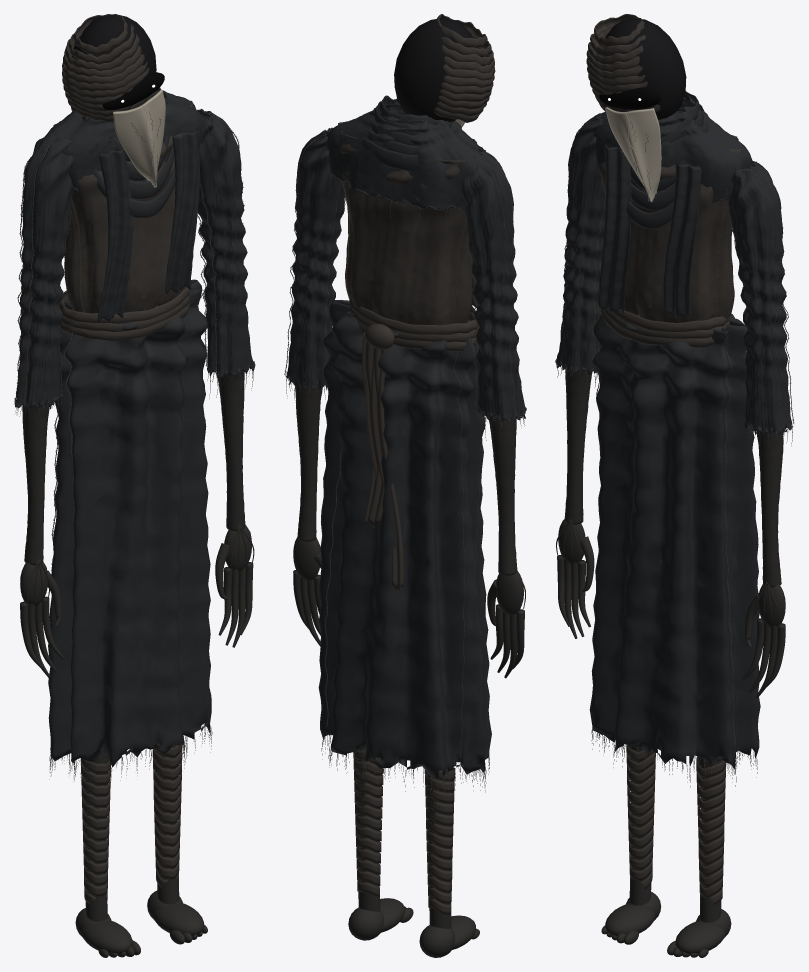
File: TheBlindOne_V4_RobloxPreview.glb
3 renders of one model, left to right at view 1: azimuth 30°, elevation 25°; view 2: azimuth 150°, elevation 25°; view 3: azimuth 330°, elevation 25°, orthographic.
Visible parts, largest first — view 1: Long continuous robe, Left sleeve, Right sleeve, V4_skin_01, Loose blouse gathered into sash, V4_cloth_01, V4_skin_02, V4_binding_06, Worn shoulder mantle, V4_binding_01, Curved elongated ivory faceplate, V4_binding_05 (+10 smaller); view 2: Long continuous robe, Loose blouse gathered into sash, Left sleeve, Right sleeve, V4_skin_01, Worn shoulder mantle, V4_skin_02, V4_binding_05, V4_binding_06, V4_fold_01, V4_stitch_01, V4_binding_01 (+8 smaller); view 3: Long continuous robe, Right sleeve, V4_skin_01, Loose blouse gathered into sash, V4_cloth_01, Left sleeve, V4_skin_02, Worn shoulder mantle, V4_binding_06, V4_fold_01, Curved elongated ivory faceplate, V4_binding_01 (+9 smaller).
Boxes of the visible parts, x1=… form: Long continuous robe: x1=48, y1=279, x2=211, y2=767; Left sleeve: x1=14, y1=129, x2=73, y2=411; Right sleeve: x1=197, y1=109, x2=255, y2=379; V4_skin_01: x1=22, y1=371, x2=245, y2=921; Loose blouse gathered into sash: x1=51, y1=100, x2=193, y2=313; V4_cloth_01: x1=97, y1=90, x2=200, y2=322; V4_skin_02: x1=20, y1=524, x2=254, y2=957; V4_binding_06: x1=80, y1=758, x2=181, y2=888; Worn shoulder mantle: x1=37, y1=89, x2=203, y2=192; V4_binding_01: x1=59, y1=286, x2=190, y2=341; Curved elongated ivory faceplate: x1=113, y1=89, x2=165, y2=187; V4_binding_05: x1=68, y1=14, x2=134, y2=904; Long continuous robe: x1=318, y1=300, x2=491, y2=778; Loose blouse gathered into sash: x1=338, y1=121, x2=472, y2=325; Left sleeve: x1=462, y1=145, x2=526, y2=423; Right sleeve: x1=285, y1=127, x2=344, y2=391; V4_skin_01: x1=295, y1=384, x2=517, y2=928; Worn shoulder mantle: x1=326, y1=98, x2=493, y2=210; V4_skin_02: x1=293, y1=537, x2=525, y2=957; V4_binding_05: x1=362, y1=14, x2=491, y2=914; V4_binding_06: x1=355, y1=767, x2=454, y2=896; V4_fold_01: x1=394, y1=18, x2=477, y2=121; V4_stitch_01: x1=284, y1=130, x2=524, y2=795; V4_binding_01: x1=349, y1=299, x2=479, y2=351; Long continuous robe: x1=589, y1=313, x2=760, y2=768; Right sleeve: x1=728, y1=160, x2=793, y2=436; V4_skin_01: x1=564, y1=370, x2=783, y2=922; Loose blouse gathered into sash: x1=598, y1=121, x2=741, y2=322; V4_cloth_01: x1=598, y1=91, x2=700, y2=320; Left sleeve: x1=555, y1=113, x2=605, y2=375; V4_skin_02: x1=556, y1=519, x2=785, y2=957; Worn shoulder mantle: x1=588, y1=94, x2=752, y2=202; V4_binding_06: x1=626, y1=744, x2=724, y2=904; V4_fold_01: x1=603, y1=18, x2=686, y2=119; Curved elongated ivory faceplate: x1=605, y1=107, x2=661, y2=202; V4_binding_01: x1=600, y1=307, x2=730, y2=347.
Bounding box in the file's own units: 2.66 × 9.97 × 1.16.
